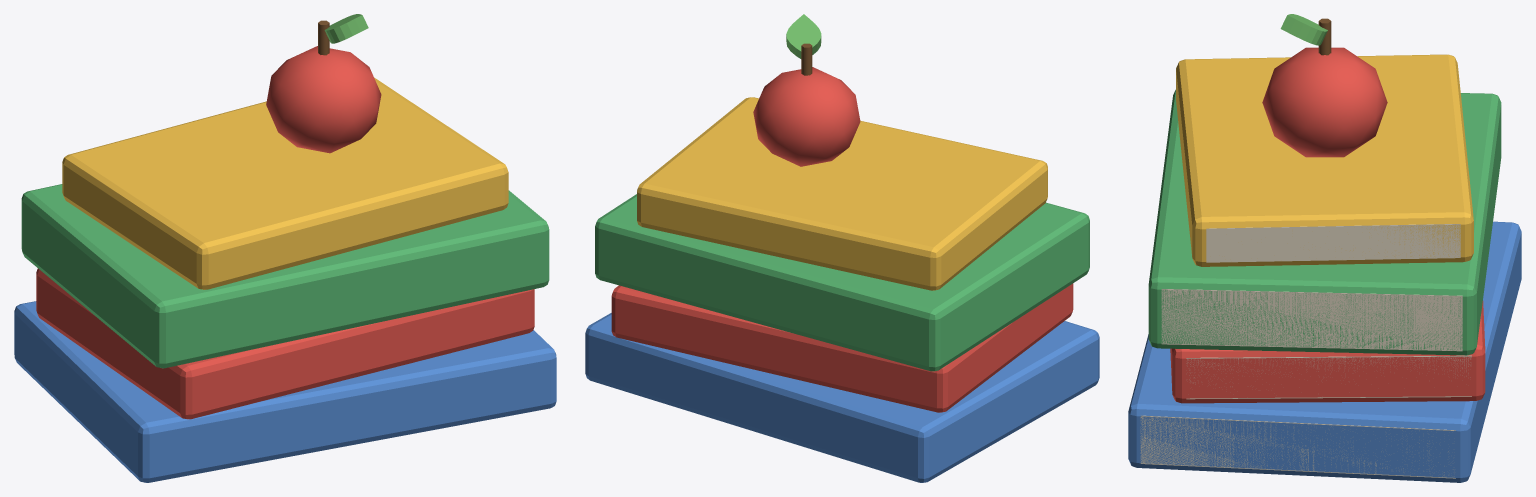
Rendered from livros.glb.
3 renders of one model, left to right at view 1: azimuth 30°, elevation 25°; view 2: azimuth 150°, elevation 25°; view 3: azimuth 270°, elevation 25°, orthographic. The views are drawn at different scales.
Parts seen in each view (by area): view 1: livros; view 2: livros; view 3: livros.
Boxes of the visible parts, x1,y1,x2,y2 form: livros: (14,14,556,482); livros: (585,14,1099,482); livros: (1128,14,1521,482).
Bounding box in the file's own units: 0.6618 × 0.5537 × 0.5026.
